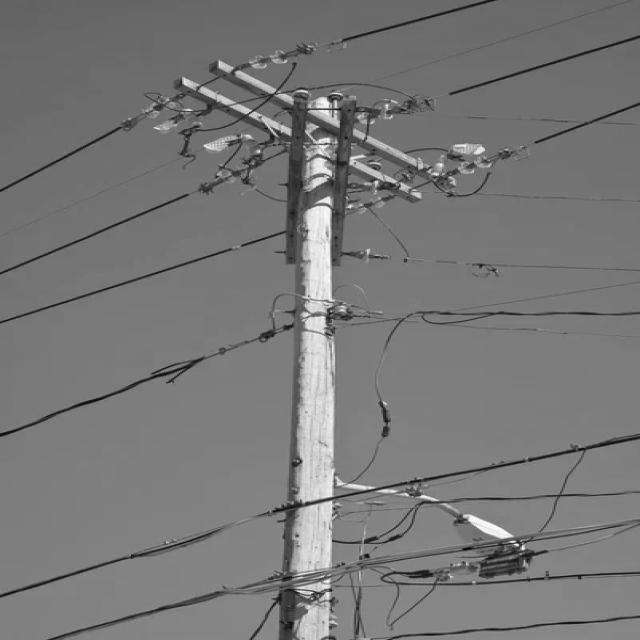Pole: (287, 122, 352, 640)
